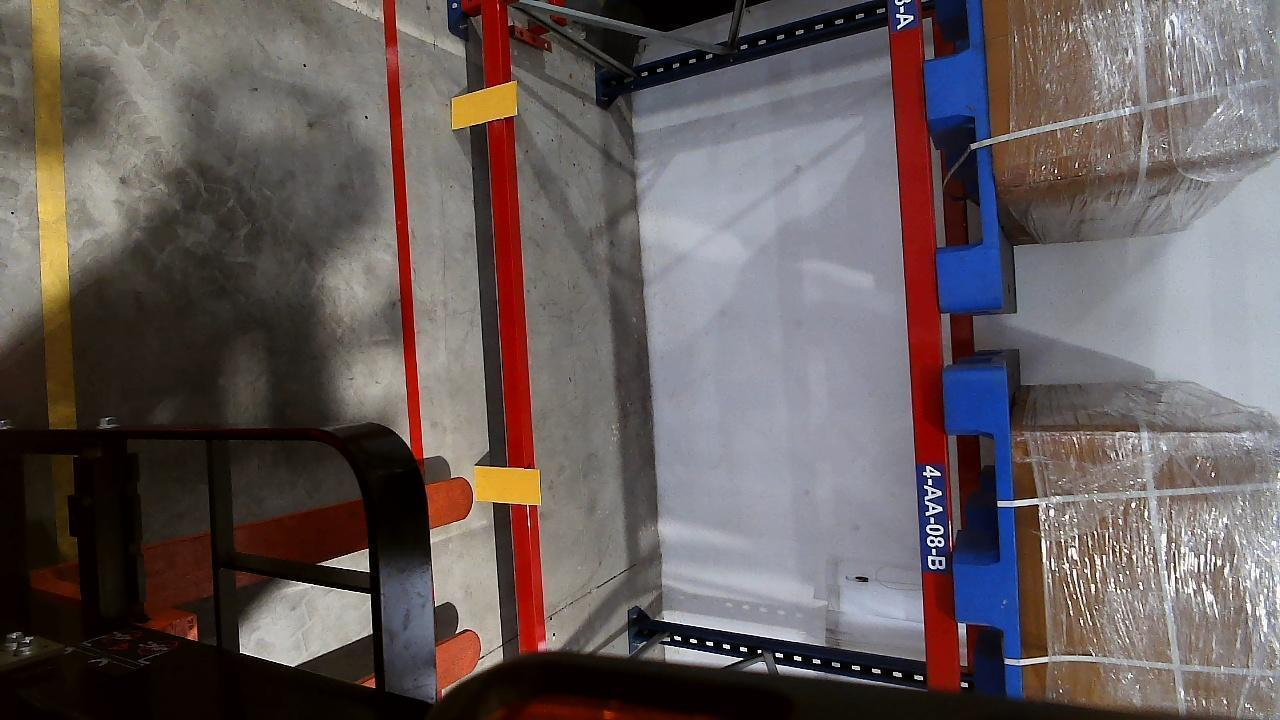red_line: (380, 0, 422, 459)
yellow_line: (29, 0, 72, 425)
